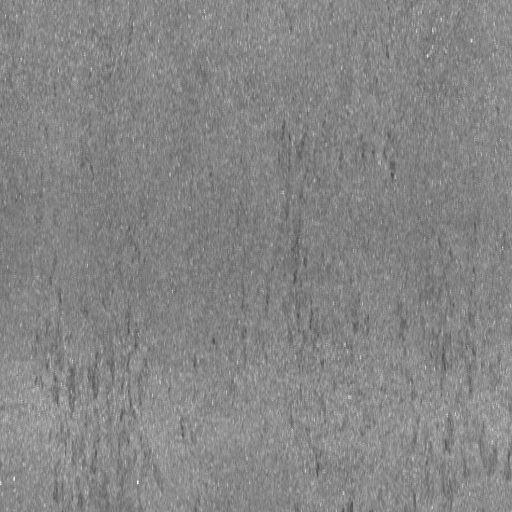zongxiangliewen: (46, 339, 134, 510), (285, 127, 334, 420), (437, 312, 477, 461)
